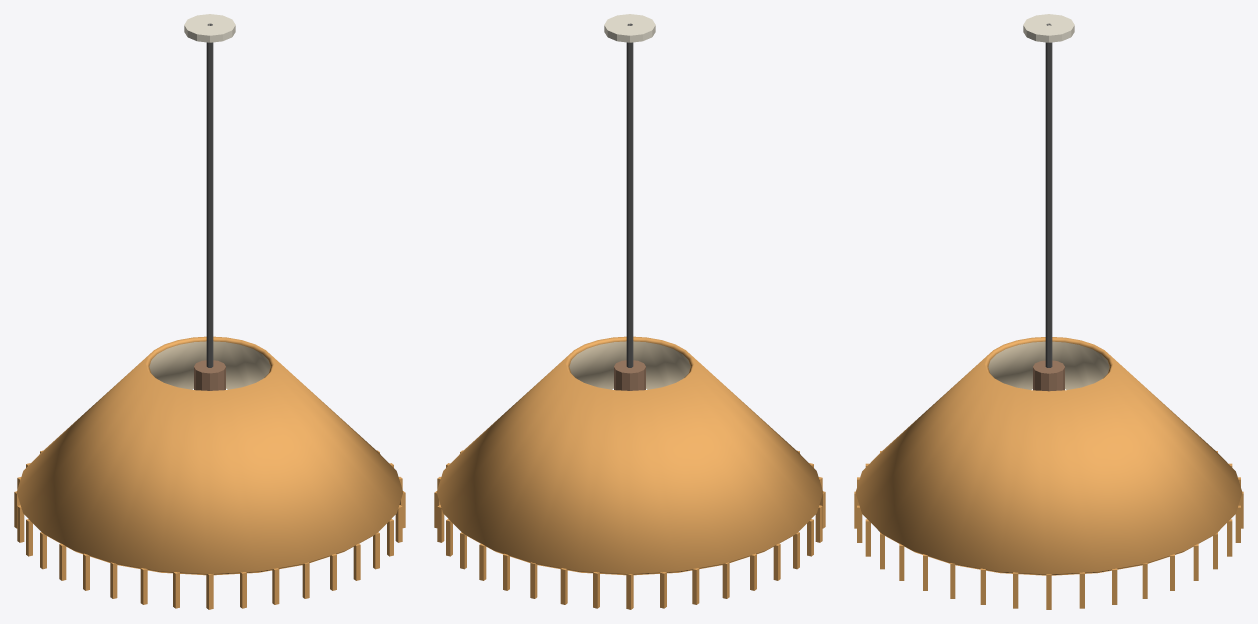
The model's file is kitchen_lamp.glb.
The picture shows the model from 3 angles, left to right: view 1: azimuth 30°, elevation 25°; view 2: azimuth 150°, elevation 25°; view 3: azimuth 270°, elevation 25°; orthographic projection.
Parts seen in each view (by area): view 1: kitchen_lamp; view 2: kitchen_lamp; view 3: kitchen_lamp.
Boxes of the visible parts, x1=… form: kitchen_lamp: x1=14, y1=14, x2=405, y2=609; kitchen_lamp: x1=434, y1=14, x2=825, y2=609; kitchen_lamp: x1=854, y1=14, x2=1243, y2=609.
Bounding box in the file's own units: 0.604 × 0.86 × 0.604.
